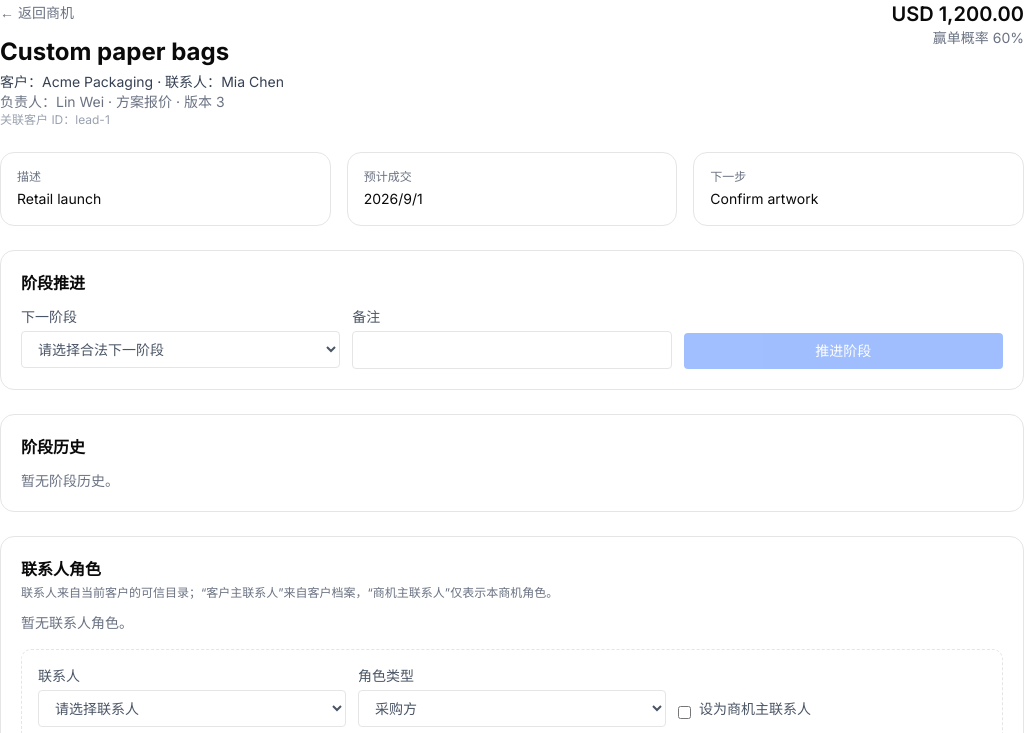
Test case: Opportunity frontend contract › requires lost reason and gives a reload action on 409
The width and height of the screenshot is (1024, 733).
Expected: the heading "Custom paper bags" is shown, [0,37,229,66]
Select "已输单" in the dropdown labelled "下一阶段" at (181, 350), box [21,331,340,368]
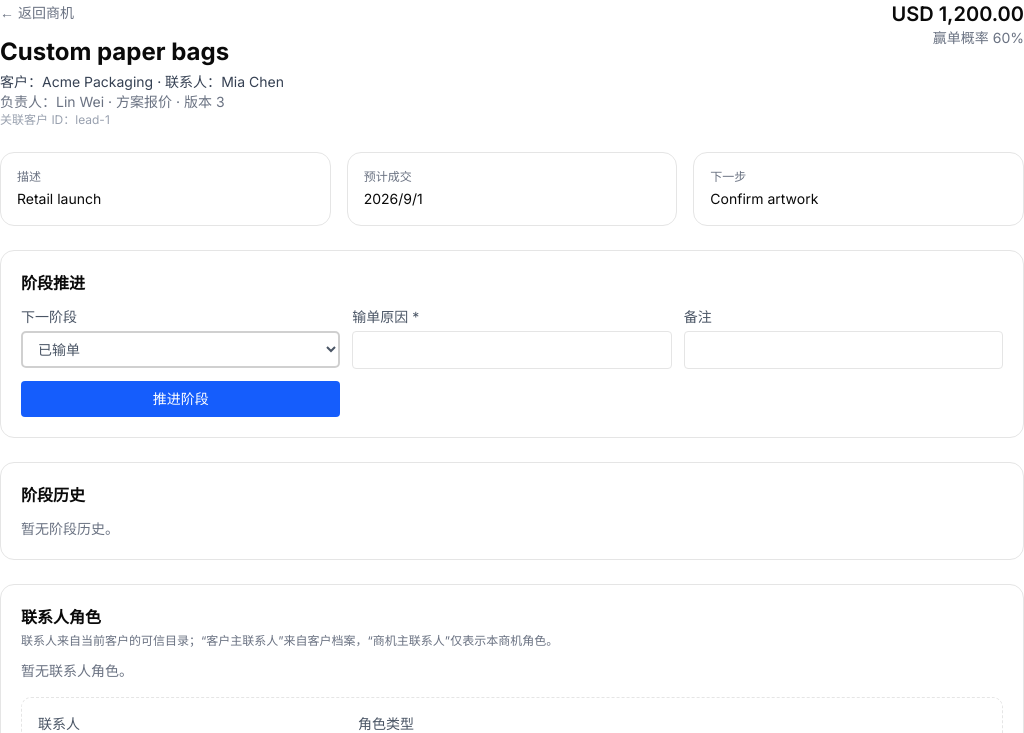
Click the button "推进阶段" at (181, 399), box [21,381,340,417]
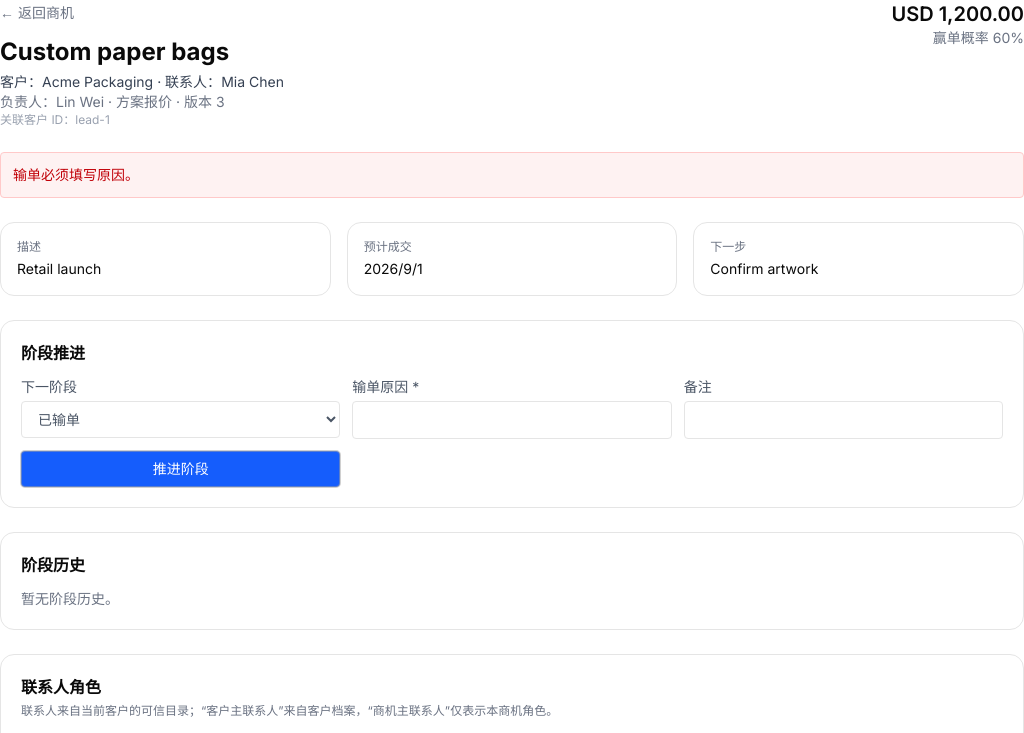
Expected: the message shows "输单必须填写原因", [13,166,139,183]
Type "Budget paused" into the field labelled "输单原因" at (512, 420), box [352,401,672,439]
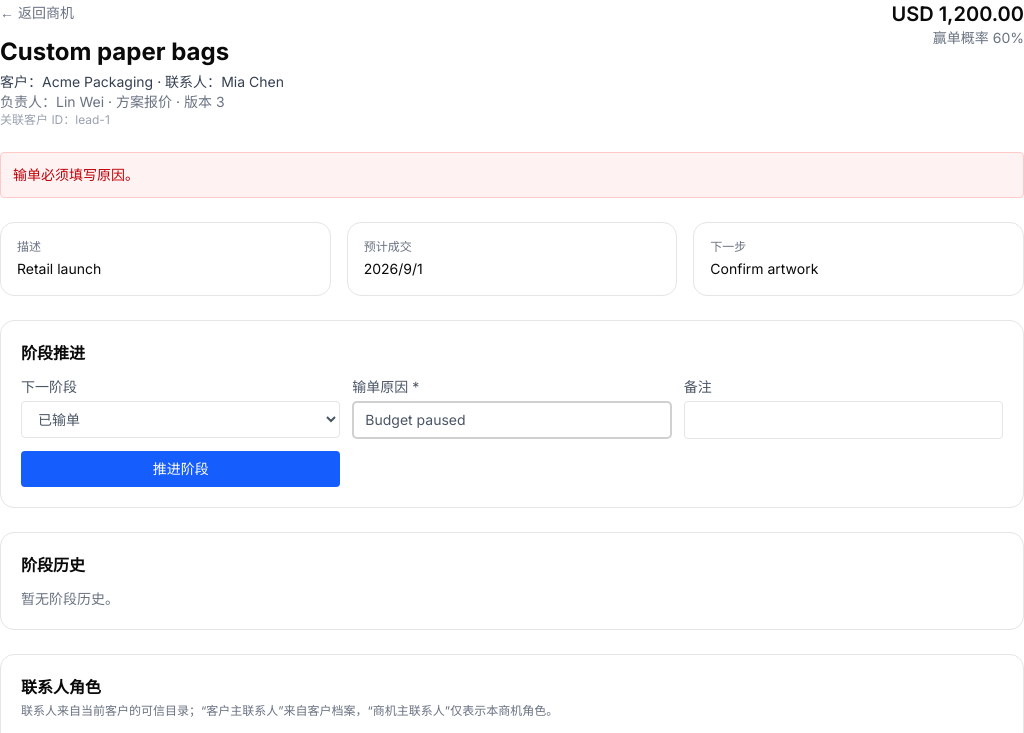
Click the button "推进阶段" at (181, 469), box [21,451,340,487]
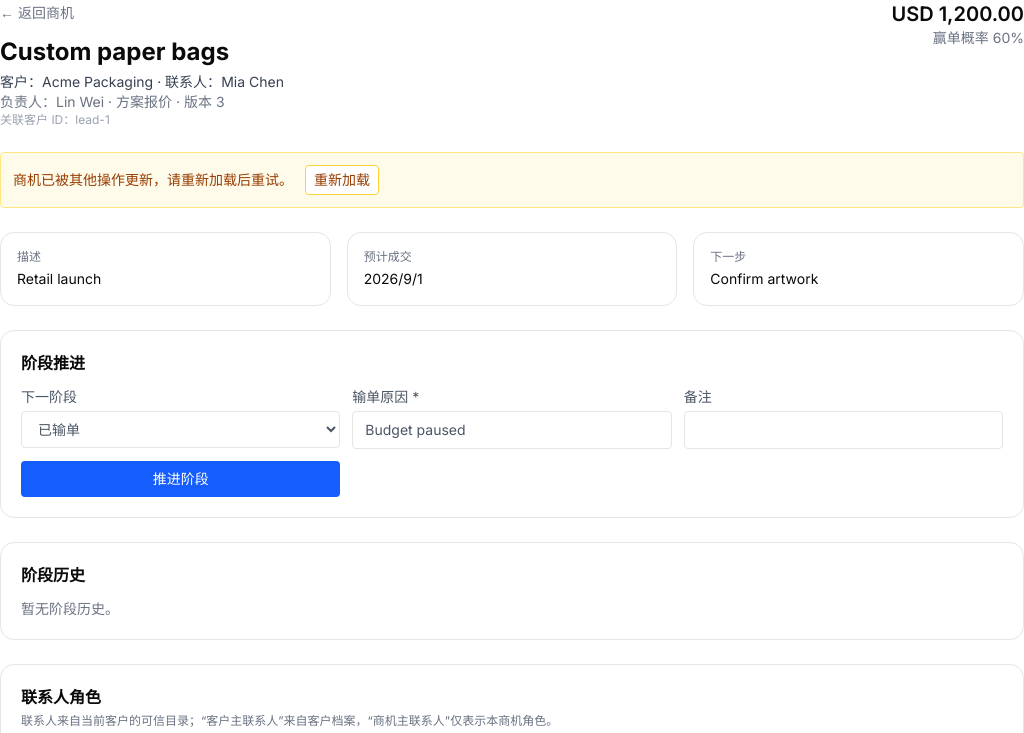
Expected: the button "重新加载" is shown, [305,165,379,195]
